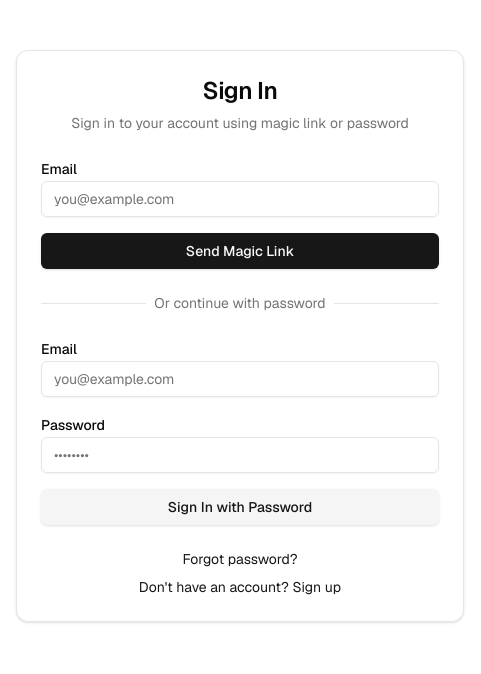
Test: LoginPage › should handle magic link error from Supabase
Type "test@example.com" into the 1st field labelled "Email" at (240, 199), box [41,181,439,217]
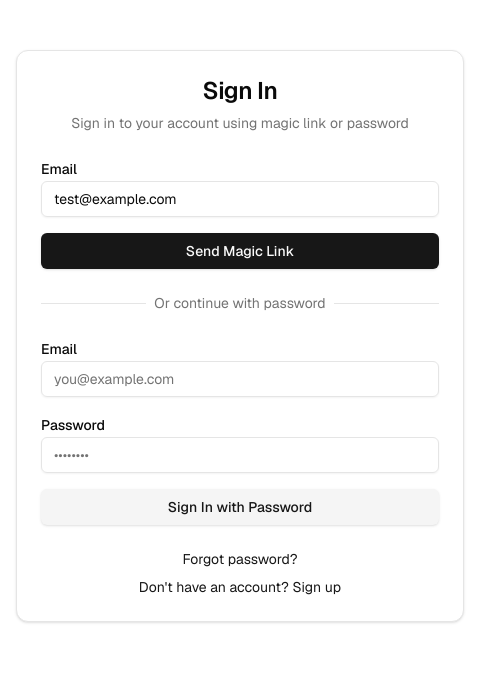
Click the button "Send Magic Link" at (240, 251), box [41,233,439,269]
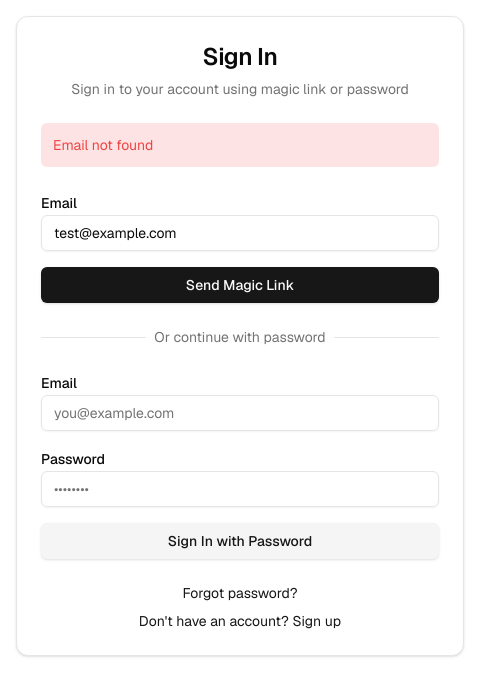
Now the text "Email not found" is shown, box [41,123,439,167]
